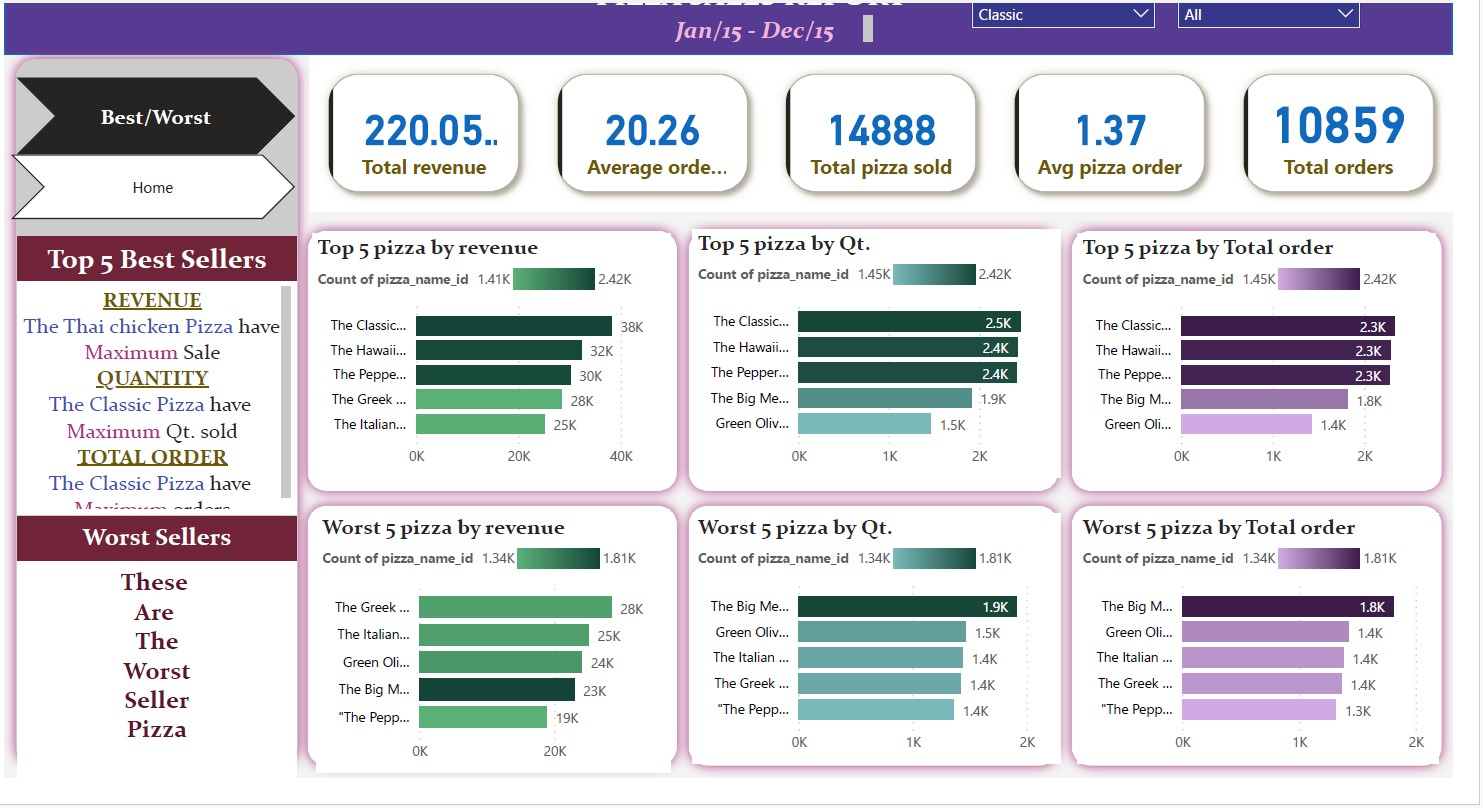

The dashboard page shown, as its layout file describes it:
{"tool":"powerbi","page":{"name":"Best/Worst","canvas":[1280,720],"ordinal":1},"visuals":[{"type":"cardVisual","fields":{"Data":["pizza_sales pizza6.Total revenue","pizza_sales pizza6.Average order value","pizza_sales pizza6.Total pizza sold","pizza_sales pizza6.Avg pizza order","pizza_sales pizza6.Total orders"]},"box":[270,81.7,1010,138.3],"z":0},{"type":"shape","box":[0,0,1280,81.7],"z":1000},{"type":"textbox","box":[501.7,8.3,316.7,50],"z":2000},{"type":"textbox","box":[588.3,41.7,183.3,33.3],"z":3000},{"type":"shape","box":[258.3,226.7,346.7,250],"z":4000},{"type":"shape","box":[0,75,270,645],"z":5000},{"type":"textbox","box":[11.7,241.7,246.7,40],"z":6000},{"type":"textbox","box":[11.7,281.7,246.7,206.7],"z":7000},{"type":"textbox","box":[11.7,490,246.7,40],"z":8000},{"type":"textbox","box":[11.7,530,246.7,190],"z":9000},{"type":"slicer","fields":{"Values":["pizza_sales pizza6.pizza_category"]},"box":[845,0,181.7,78.3],"z":10000},{"type":"slicer","fields":{"Values":["pizza_sales pizza6.order_date"]},"box":[1026.7,0,181.7,78.3],"z":11000},{"type":"shape","box":[595,226.7,346.7,250],"z":12000},{"type":"shape","box":[933.3,226.7,346.7,250],"z":13000},{"type":"shape","box":[258.3,470,346.7,250],"z":14000},{"type":"shape","box":[595,470,346.7,250],"z":15000},{"type":"shape","box":[933.3,470,346.7,250],"z":16000},{"type":"clusteredBarChart","title":"Top 5 pizza by revenue","fields":{"Y":["pizza_sales pizza6.Total revenue"],"Category":["pizza_sales pizza6.pizza_name"]},"box":[271.9,239.8,317.2,215.2],"z":17000},{"type":"clusteredBarChart","title":"Worst 5 pizza by revenue","fields":{"Y":["pizza_sales pizza6.Total revenue"],"Category":["pizza_sales pizza6.pizza_name"]},"box":[275.6,487.1,313.4,228.4],"z":18000},{"type":"clusteredBarChart","title":"Top 5 pizza by Qt.","fields":{"Category":["pizza_sales pizza6.pizza_name"],"Y":["pizza_sales pizza6.Total pizza sold"]},"box":[607.9,236,324.7,219],"z":19000},{"type":"clusteredBarChart","title":"Worst 5 pizza by Qt.","fields":{"Category":["pizza_sales pizza6.pizza_name"],"Y":["pizza_sales pizza6.Total pizza sold"]},"box":[607.9,487.1,324.7,220.9],"z":20000},{"type":"clusteredBarChart","title":"Top 5 pizza by Total order","fields":{"Category":["pizza_sales pizza6.pizza_name"],"Y":["pizza_sales pizza6.Total orders"]},"box":[947.7,239.8,317.2,215.2],"z":21000},{"type":"clusteredBarChart","title":"Worst 5 pizza by Total order","fields":{"Category":["pizza_sales pizza6.pizza_name"],"Y":["pizza_sales pizza6.Total orders"]},"box":[947.7,487.1,319.1,220.9],"z":22000},{"type":"pageNavigator","box":[11.3,101.9,245.4,68],"z":22001},{"type":"pageNavigator","box":[5.7,169.9,251.1,56.6],"z":22002}]}

Visuals, with their boxes on the page's 1280x720 design canvas (x1, y1, x2, y2). These are canvas units, not pixel positions in the 1482x808 screenshot, which may show the page scaled, cropped or inside an application window:
cardVisual - pizza_sales pizza6.Total revenue x pizza_sales pizza6.Average order value: pyautogui.locateOnScreen(270, 82, 1280, 220)
shape: pyautogui.locateOnScreen(0, 0, 1280, 82)
textbox: pyautogui.locateOnScreen(502, 8, 818, 58)
textbox: pyautogui.locateOnScreen(588, 42, 772, 75)
shape: pyautogui.locateOnScreen(258, 227, 605, 477)
shape: pyautogui.locateOnScreen(0, 75, 270, 720)
textbox: pyautogui.locateOnScreen(12, 242, 258, 282)
textbox: pyautogui.locateOnScreen(12, 282, 258, 488)
textbox: pyautogui.locateOnScreen(12, 490, 258, 530)
textbox: pyautogui.locateOnScreen(12, 530, 258, 720)
slicer - pizza_sales pizza6.pizza_category: pyautogui.locateOnScreen(845, 0, 1027, 78)
slicer - pizza_sales pizza6.order_date: pyautogui.locateOnScreen(1027, 0, 1208, 78)
shape: pyautogui.locateOnScreen(595, 227, 942, 477)
shape: pyautogui.locateOnScreen(933, 227, 1280, 477)
shape: pyautogui.locateOnScreen(258, 470, 605, 720)
shape: pyautogui.locateOnScreen(595, 470, 942, 720)
shape: pyautogui.locateOnScreen(933, 470, 1280, 720)
"Top 5 pizza by revenue" clusteredBarChart: pyautogui.locateOnScreen(272, 240, 589, 455)
"Worst 5 pizza by revenue" clusteredBarChart: pyautogui.locateOnScreen(276, 487, 589, 716)
"Top 5 pizza by Qt." clusteredBarChart: pyautogui.locateOnScreen(608, 236, 933, 455)
"Worst 5 pizza by Qt." clusteredBarChart: pyautogui.locateOnScreen(608, 487, 933, 708)
"Top 5 pizza by Total order" clusteredBarChart: pyautogui.locateOnScreen(948, 240, 1265, 455)
"Worst 5 pizza by Total order" clusteredBarChart: pyautogui.locateOnScreen(948, 487, 1267, 708)
pageNavigator: pyautogui.locateOnScreen(11, 102, 257, 170)
pageNavigator: pyautogui.locateOnScreen(6, 170, 257, 226)
